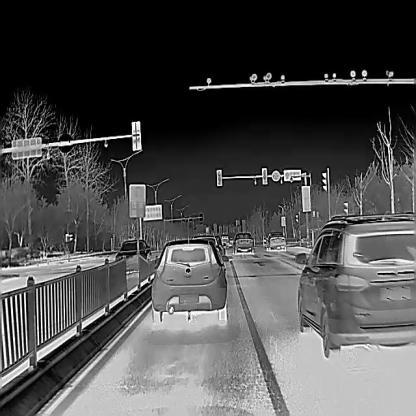car: (293, 216, 415, 358), (149, 240, 229, 322), (114, 239, 151, 273), (191, 236, 222, 262), (233, 231, 253, 252), (265, 231, 286, 249), (215, 236, 226, 257), (221, 236, 230, 248)
